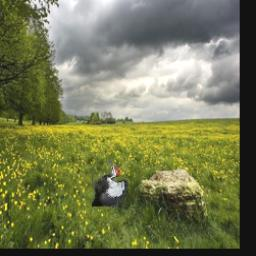Woodpecker: (92, 160, 129, 208)
